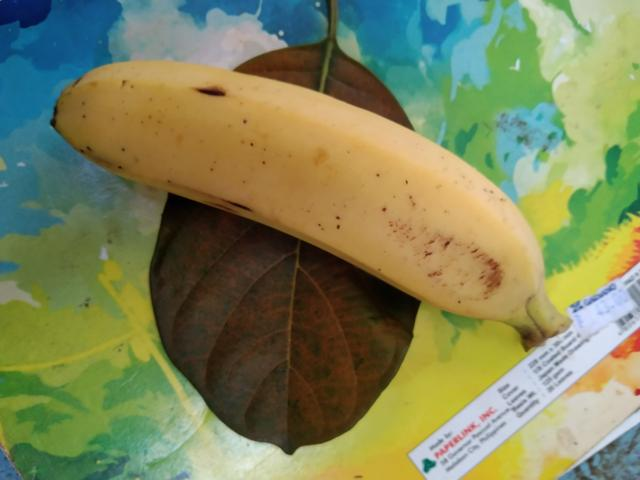ripe: (54, 50, 546, 315)
